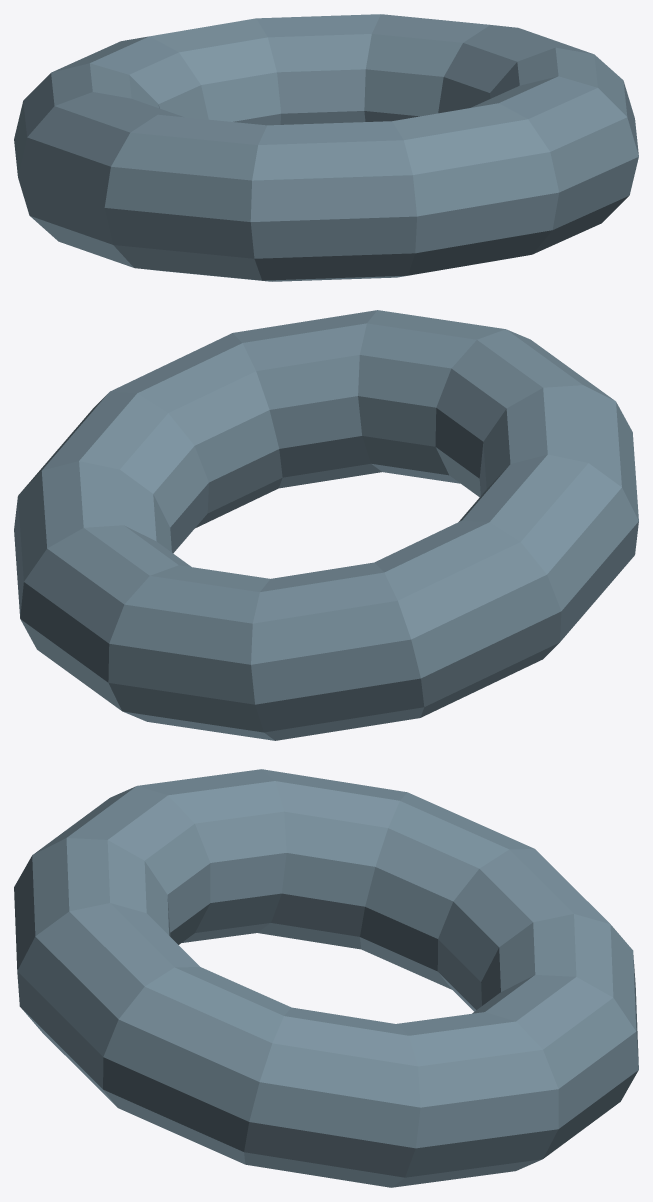
Rendered from astronaut_spawn_group549386394_lev4.glb.
3 renders of one model, top to bottom at view 1: azimuth 30°, elevation 25°; view 2: azimuth 150°, elevation 25°; view 3: azimuth 270°, elevation 25°, orthographic.
Parts seen in each view (by area): view 1: astronaut_spawn_group549386394_lev4; view 2: astronaut_spawn_group549386394_lev4; view 3: astronaut_spawn_group549386394_lev4.
Boxes of the visible parts, box(x1,y1,x2,y2) form: astronaut_spawn_group549386394_lev4: box(14, 14, 638, 281); astronaut_spawn_group549386394_lev4: box(14, 310, 638, 740); astronaut_spawn_group549386394_lev4: box(14, 769, 638, 1187).
Bounding box in the file's own units: 0.5014 × 0.2046 × 0.492.
